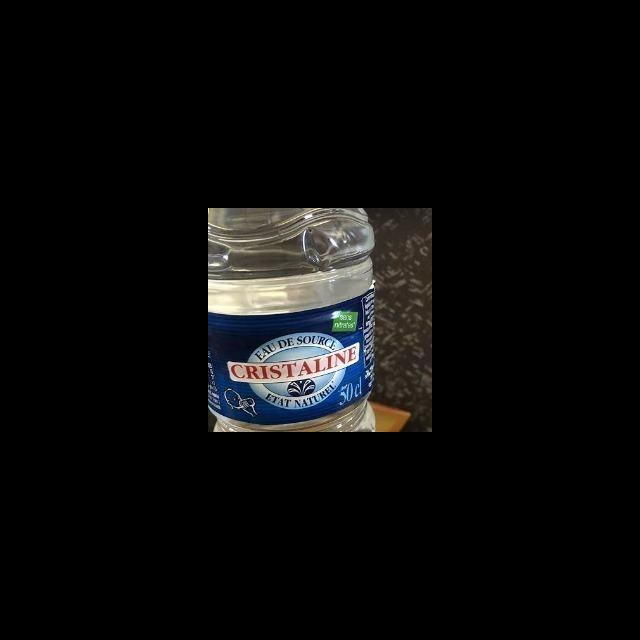plastic: (208, 208, 385, 432)
